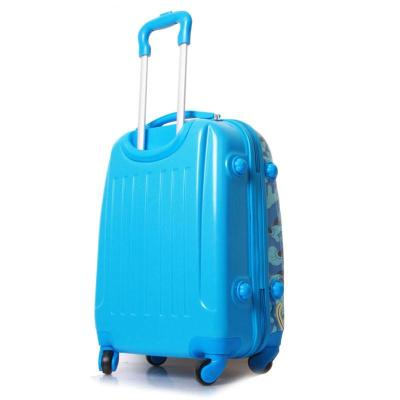luggage: (93, 10, 284, 386)
